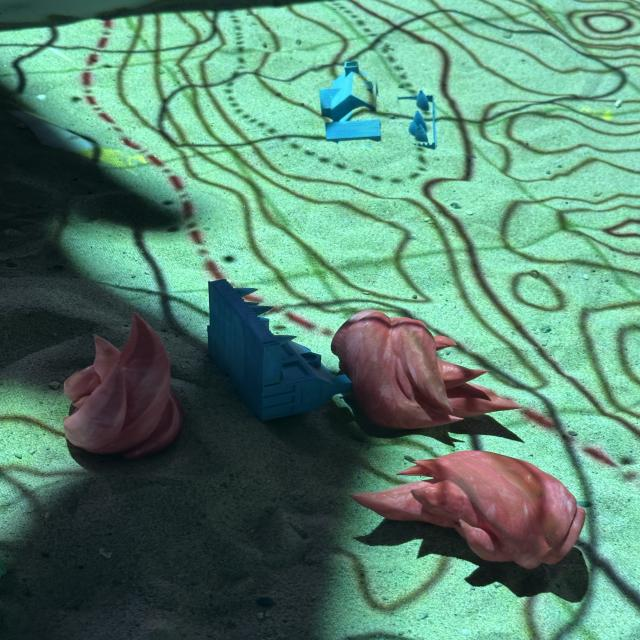fire: (350, 449, 588, 570), (333, 312, 523, 433), (64, 312, 187, 456)
house: (206, 277, 352, 422), (317, 61, 437, 150)
